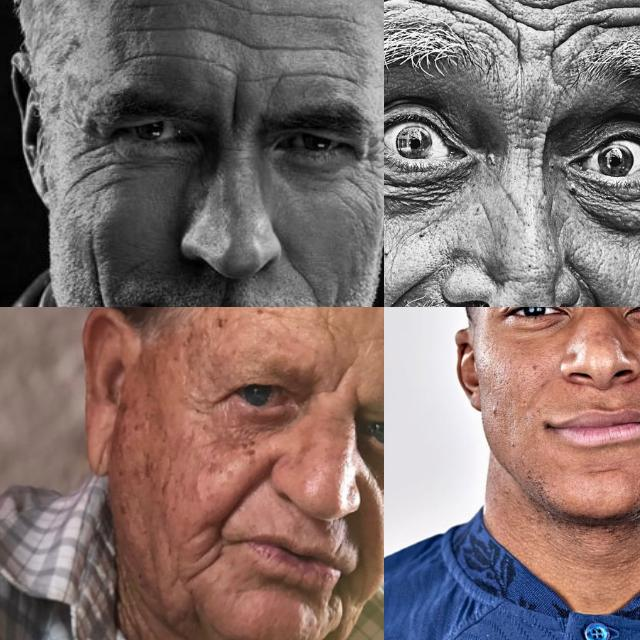bunny_line: (496, 182, 530, 226), (478, 198, 502, 236)
chin: (586, 464, 624, 484)
crows_feet: (71, 126, 109, 178), (192, 380, 234, 418), (360, 134, 384, 178)
forehead: (276, 1, 366, 32), (277, 61, 365, 90), (278, 34, 360, 64), (216, 18, 268, 64), (124, 42, 198, 70), (533, 0, 594, 30), (124, 17, 198, 41), (454, 0, 515, 29), (313, 310, 342, 348), (192, 0, 234, 12)
frown_line: (510, 114, 548, 164), (323, 360, 361, 400), (508, 39, 536, 83), (224, 80, 246, 130)
gummy_smile: (213, 465, 270, 525), (384, 265, 428, 307), (573, 263, 612, 307), (289, 260, 321, 296)
masseter: (88, 259, 116, 307)
sad_smile: (186, 538, 226, 582), (323, 583, 349, 635)
